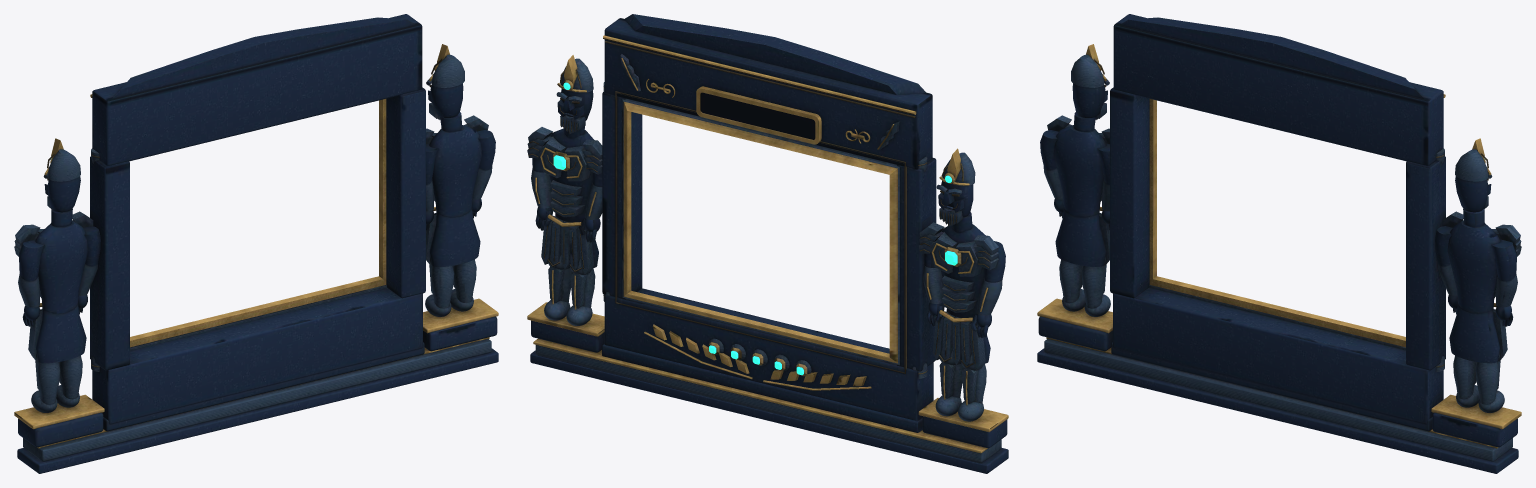
3 views of the same model, side by side, from view 1: azimuth 30°, elevation 25°; view 2: azimuth 150°, elevation 25°; view 3: azimuth 330°, elevation 25° (orthographic).
Visible parts, largest first — view 1: Weathered_navy_colossus, Sculpted_slate_armour, Antique_oath_gold; view 2: Weathered_navy_colossus, Sculpted_slate_armour, Antique_oath_gold, Dark_carved_bronze, Uniform_midnight_display, Emerald_pact_glow; view 3: Weathered_navy_colossus, Sculpted_slate_armour, Antique_oath_gold.
Boxes of the visible parts, x1=… form: Weathered_navy_colossus: x1=17, y1=14, x2=498, y2=473; Sculpted_slate_armour: x1=14, y1=54, x2=492, y2=461; Antique_oath_gold: x1=14, y1=44, x2=498, y2=448; Weathered_navy_colossus: x1=530, y1=14, x2=1008, y2=473; Sculpted_slate_armour: x1=527, y1=54, x2=1002, y2=462; Antique_oath_gold: x1=527, y1=35, x2=1008, y2=453; Dark_carved_bronze: x1=528, y1=41, x2=989, y2=373; Uniform_midnight_display: x1=700, y1=92, x2=815, y2=139; Emerald_pact_glow: x1=553, y1=82, x2=957, y2=375; Weathered_navy_colossus: x1=1037, y1=14, x2=1518, y2=473; Sculpted_slate_armour: x1=1043, y1=54, x2=1521, y2=461; Antique_oath_gold: x1=1037, y1=44, x2=1521, y2=448.
Size of the model in its own units: 12.28 by 9.2 by 1.19.
Materials: 6 (5 with a texture image).
